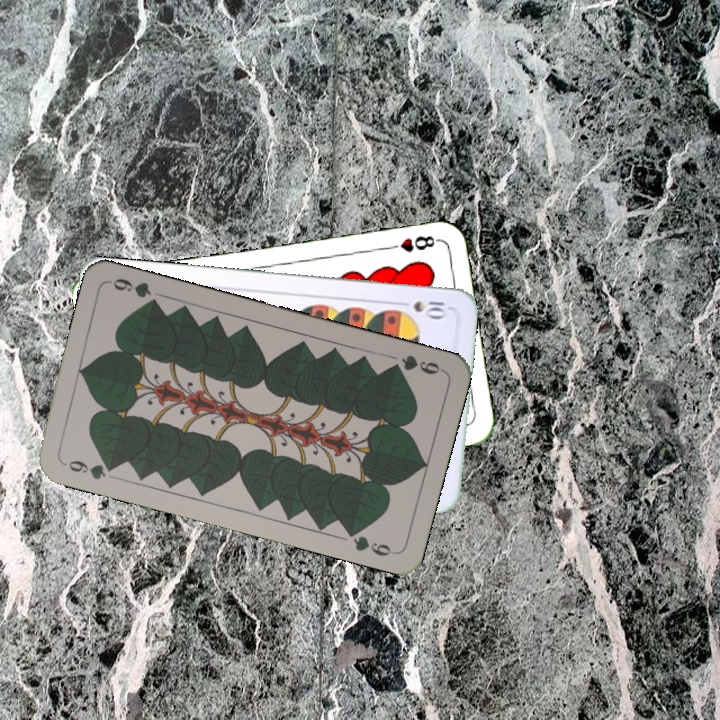G9: (59, 456, 120, 483), (385, 351, 446, 377)
H8: (383, 231, 442, 255)
S10: (409, 297, 452, 319)
